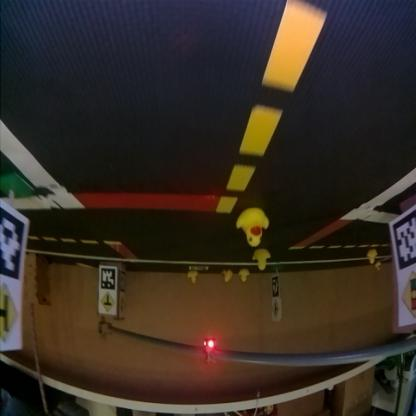Duckie: (238, 208, 270, 247), (254, 250, 270, 270), (368, 250, 378, 262), (188, 272, 198, 284), (224, 271, 234, 282), (240, 270, 249, 282)
Intersection sign: (2, 285, 22, 347), (99, 293, 117, 315), (273, 300, 281, 322)
QR code: (1, 206, 27, 280), (392, 211, 415, 272), (101, 267, 117, 291), (272, 276, 280, 300), (119, 270, 126, 294)
Signal sign: (401, 275, 415, 325)
Traffic light: (204, 338, 218, 365)
